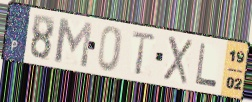0: (96, 24, 125, 74)
8: (29, 14, 56, 62)
L: (194, 42, 219, 89)
M: (53, 16, 94, 70)
T: (129, 30, 158, 77)
X: (161, 34, 194, 87)
